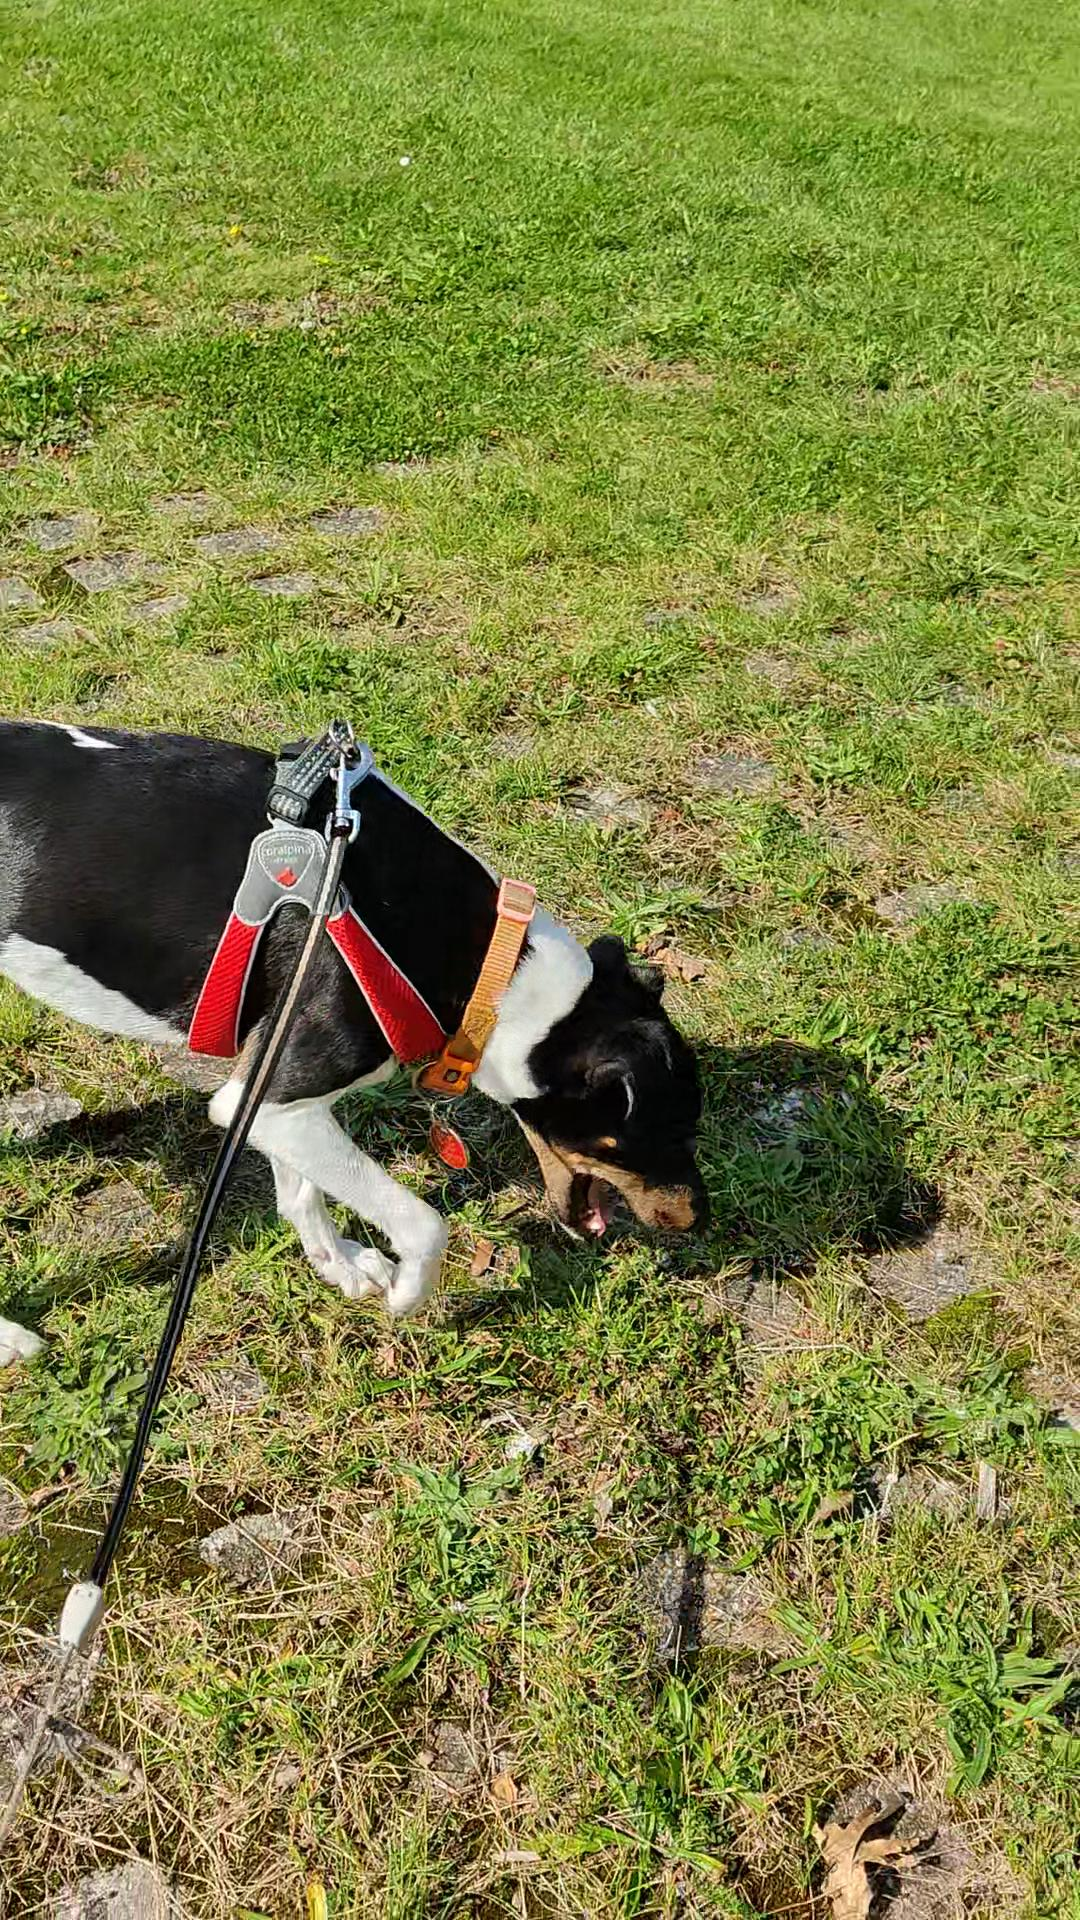Dog: (0, 713, 717, 1328)
